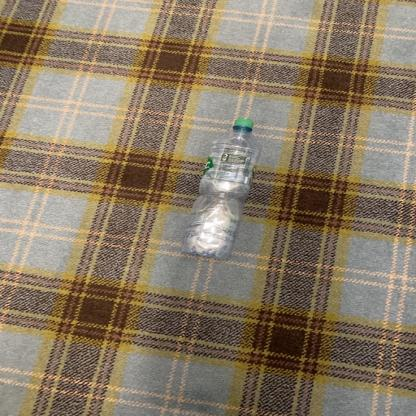trash: (180, 119, 262, 261)
